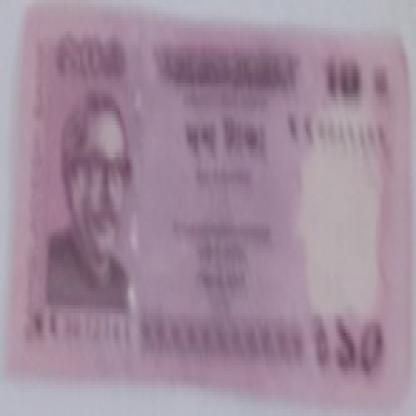Ten Taka: (334, 291, 384, 388), (62, 7, 108, 94), (316, 38, 365, 111)
